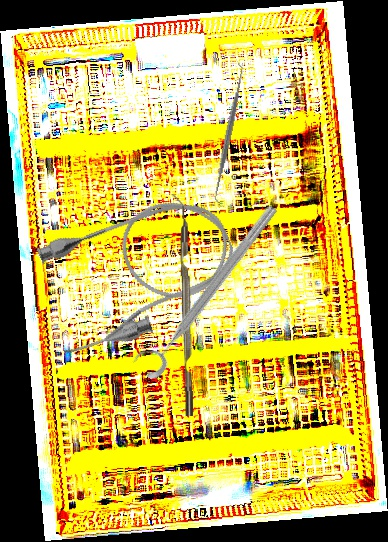Cannula: (24, 178, 251, 367)
Chopper: (171, 193, 193, 417)
Fixation Ring: (128, 194, 283, 383)
Spatula Surgical: (206, 60, 251, 205)
